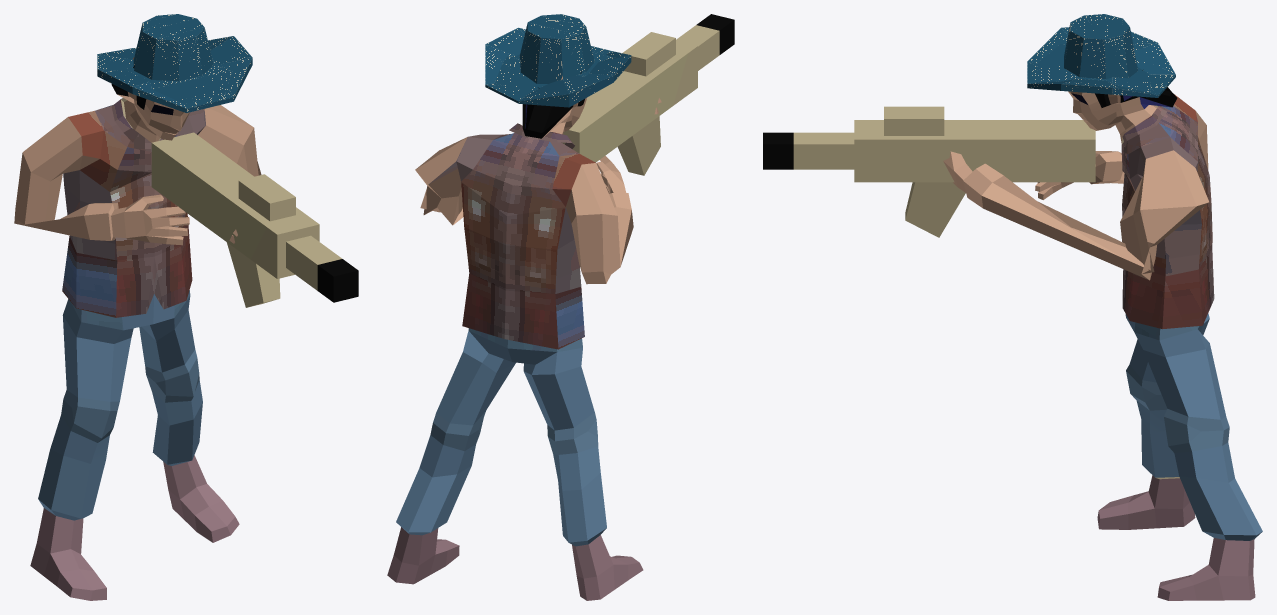
The model's file is 249_hillbilly1.gltf.
3 views of the same model, side by side, from view 1: azimuth 30°, elevation 25°; view 2: azimuth 150°, elevation 25°; view 3: azimuth 270°, elevation 25° (orthographic). The views are drawn at different scales.
Parts seen in each view (by area): view 1: hillbilly1; view 2: hillbilly1; view 3: hillbilly1.
Part boxes in pixels (box(x1,y1,x2,y2)): hillbilly1: box(14, 14, 358, 600); hillbilly1: box(387, 14, 734, 600); hillbilly1: box(763, 14, 1262, 600).
Bounding box in the file's own units: 1.57 × 3.74 × 3.17.
Materials: 1 (1 with a texture image).
